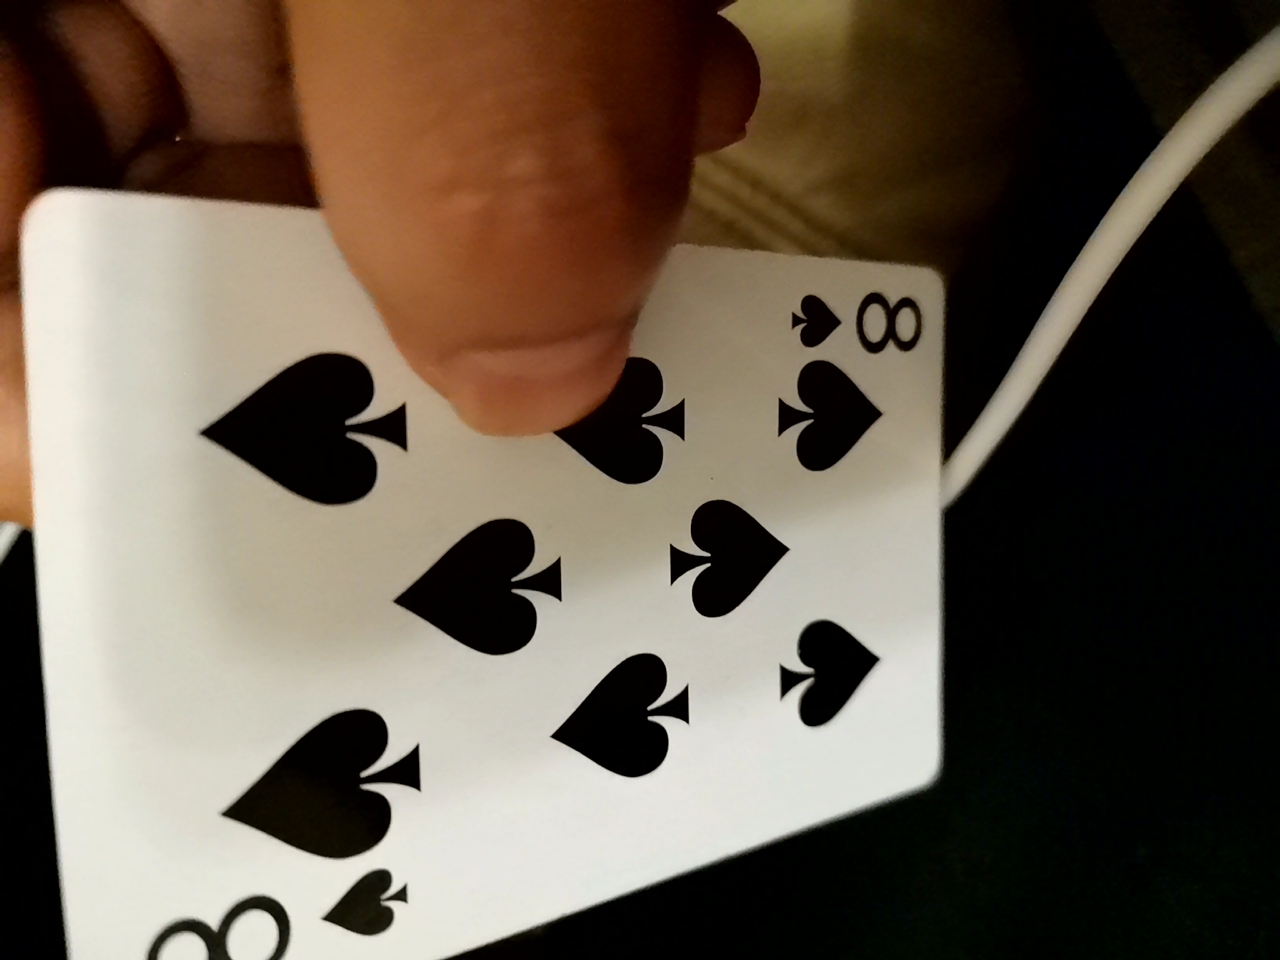ht 8: (21, 202, 977, 959)
